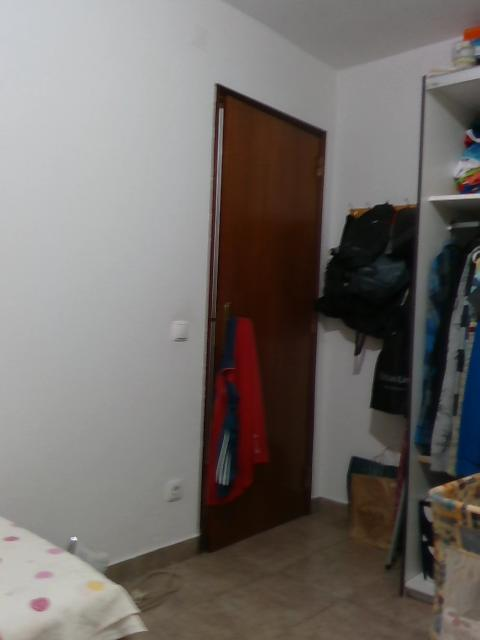closed_door: (198, 83, 326, 555)
